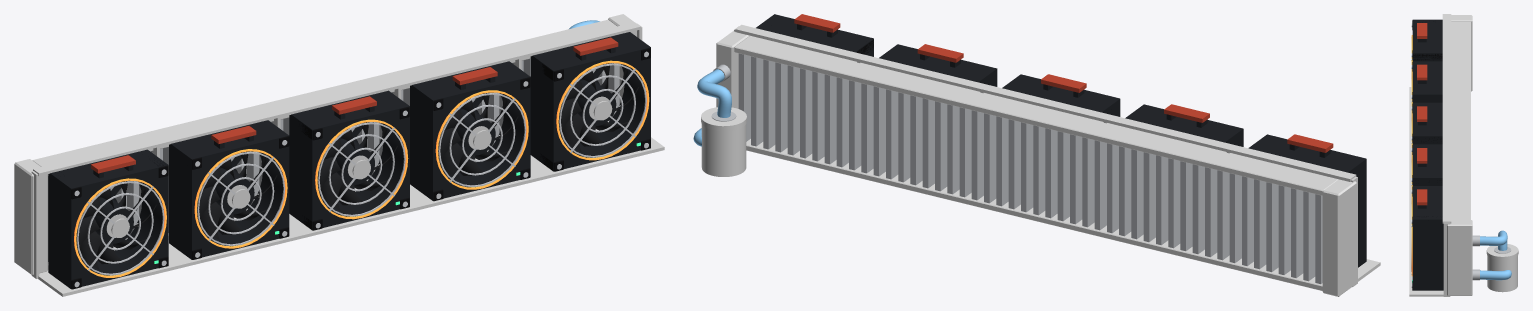
File: hwm_cool_aio_liquid.glb
3 renders of one model, left to right at view 1: azimuth 30°, elevation 25°; view 2: azimuth 150°, elevation 25°; view 3: azimuth 270°, elevation 25°, orthographic. The views are drawn at different scales.
Parts seen in each view (by area): view 1: Body, Rotor_Z_1, Rotor_Z_3, Rotor_Z_4, Rotor_Z_2, Rotor_Z_0; view 2: Body, Flow_0; view 3: Body, Flow_0, Flow_1.
Boxes of the visible parts, x1=… form: Body: x1=14, y1=14, x2=664, y2=296; Rotor_Z_1: x1=197, y1=151, x2=277, y2=240; Rotor_Z_3: x1=438, y1=92, x2=518, y2=181; Rotor_Z_4: x1=558, y1=63, x2=638, y2=151; Rotor_Z_2: x1=317, y1=122, x2=397, y2=210; Rotor_Z_0: x1=76, y1=181, x2=156, y2=269; Body: x1=701, y1=14, x2=1380, y2=296; Flow_0: x1=697, y1=69, x2=731, y2=117; Body: x1=1409, y1=14, x2=1518, y2=296; Flow_0: x1=1480, y1=230, x2=1507, y2=250; Flow_1: x1=1480, y1=270, x2=1511, y2=280.
Bounding box in the file's own units: 0.582 × 0.1033 × 0.1276.
